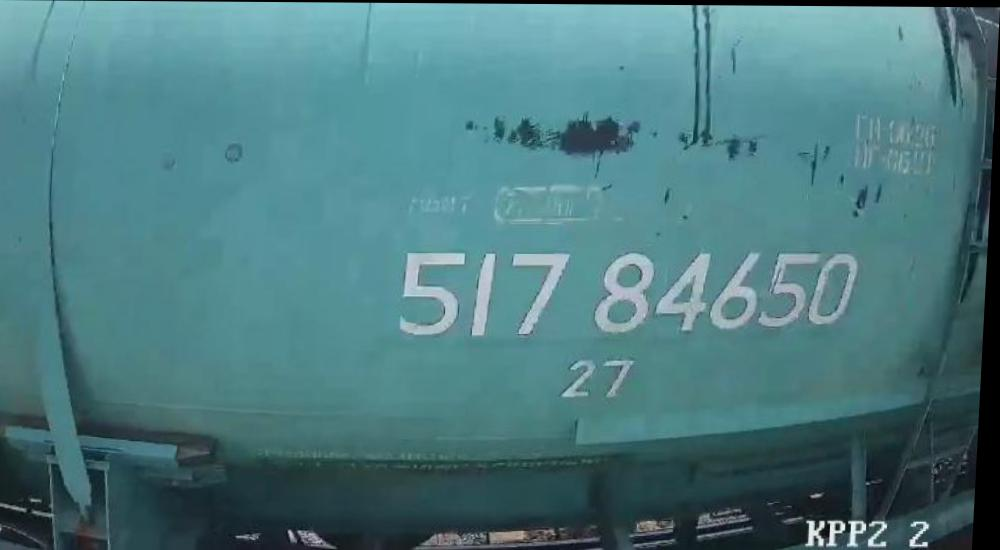Wagon-number: (393, 245, 868, 347)
